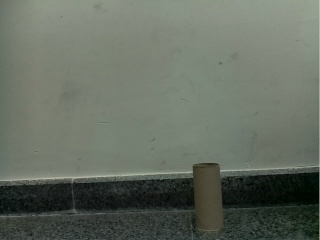rollo papel: (192, 163, 223, 232)
